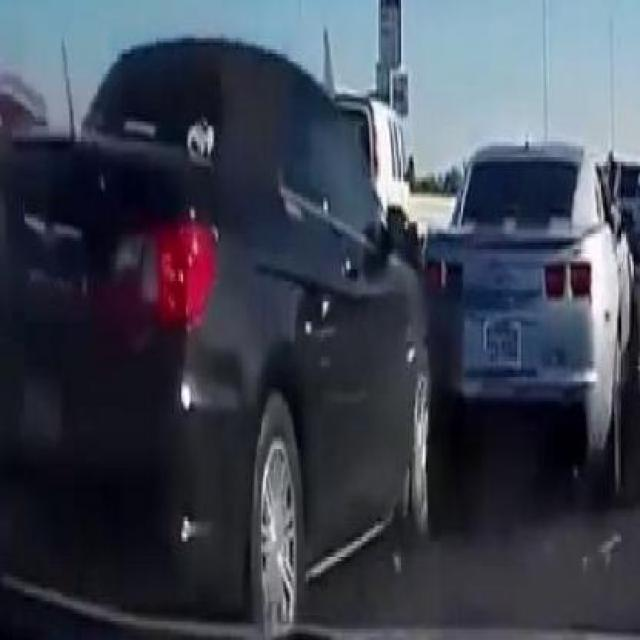accident: (17, 19, 640, 598)
